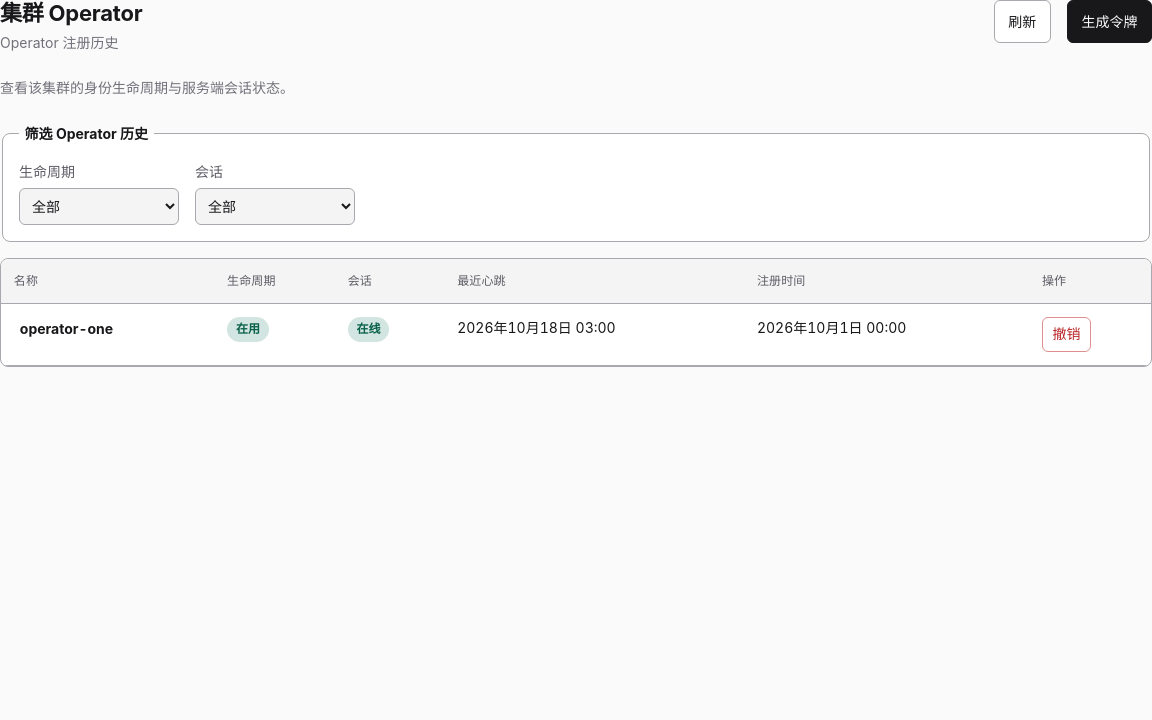
operator revocation feedback (W10) › announces a successful revocation from the list with a polite success toast
The width and height of the screenshot is (1152, 720).
Step 1. Click the button with class "danger" → (1067, 334), box [1042,317,1091,352]
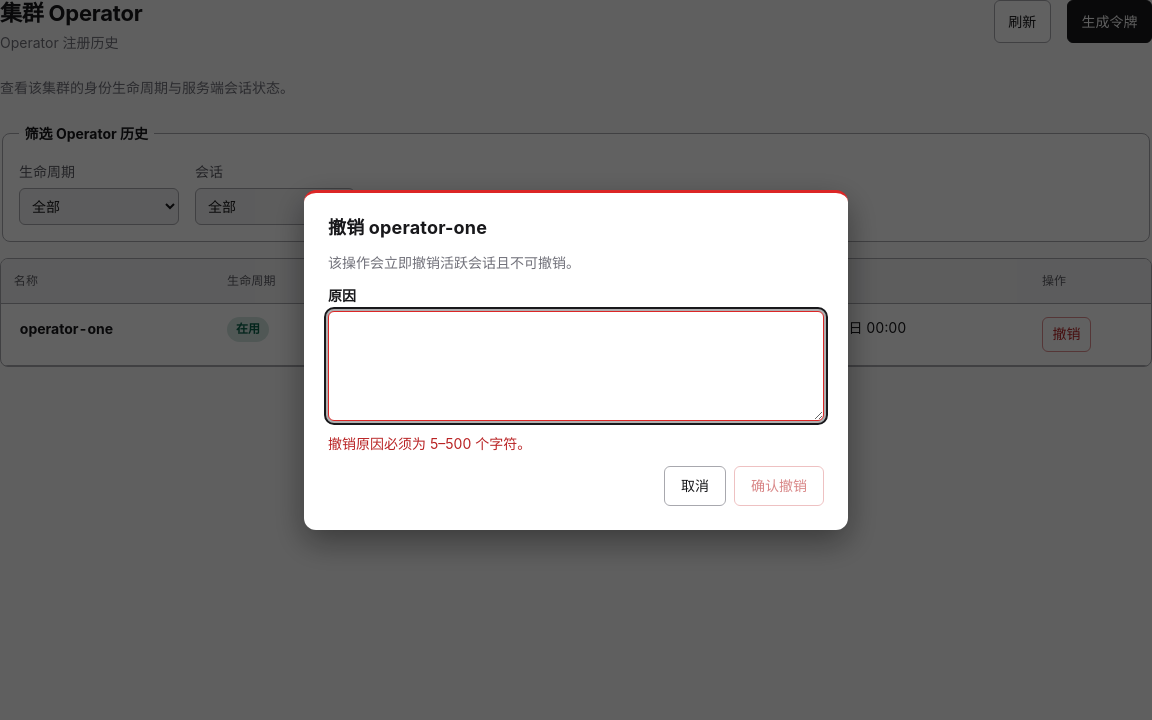
Step 2. Type "compromised credential" into the text box labelled "原因" → (576, 366), box [328,311,824,420]
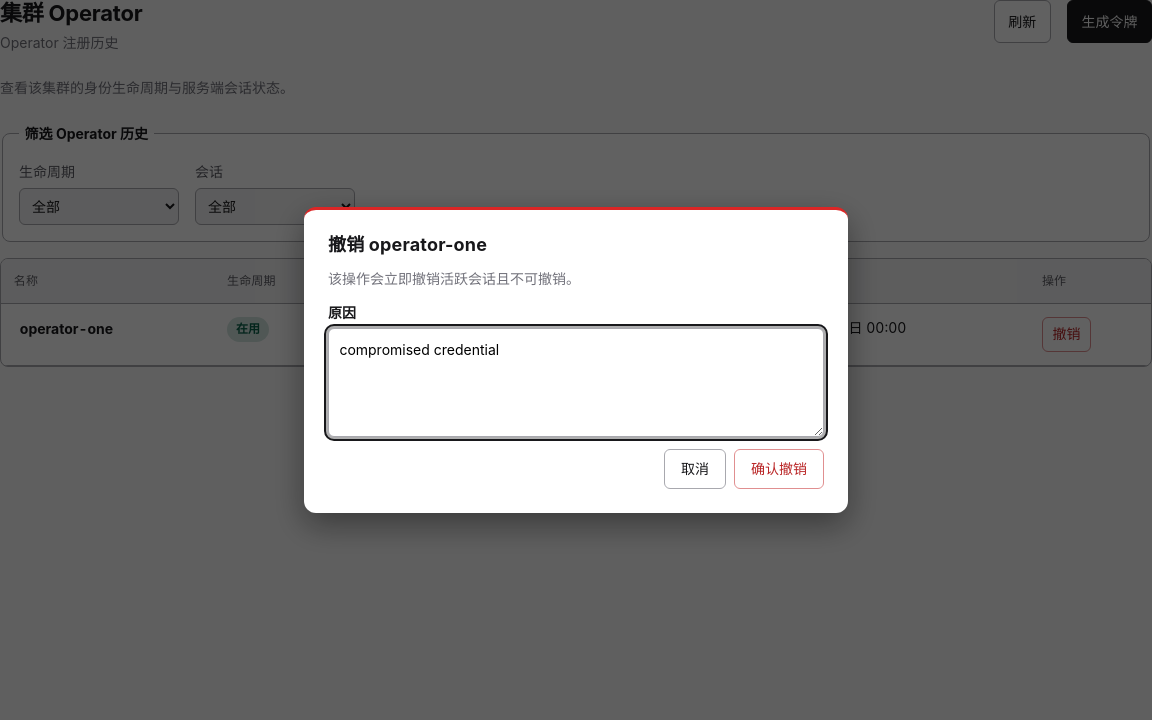
Step 3. Click the button "确认撤销" → (779, 469), box [734,449,824,489]
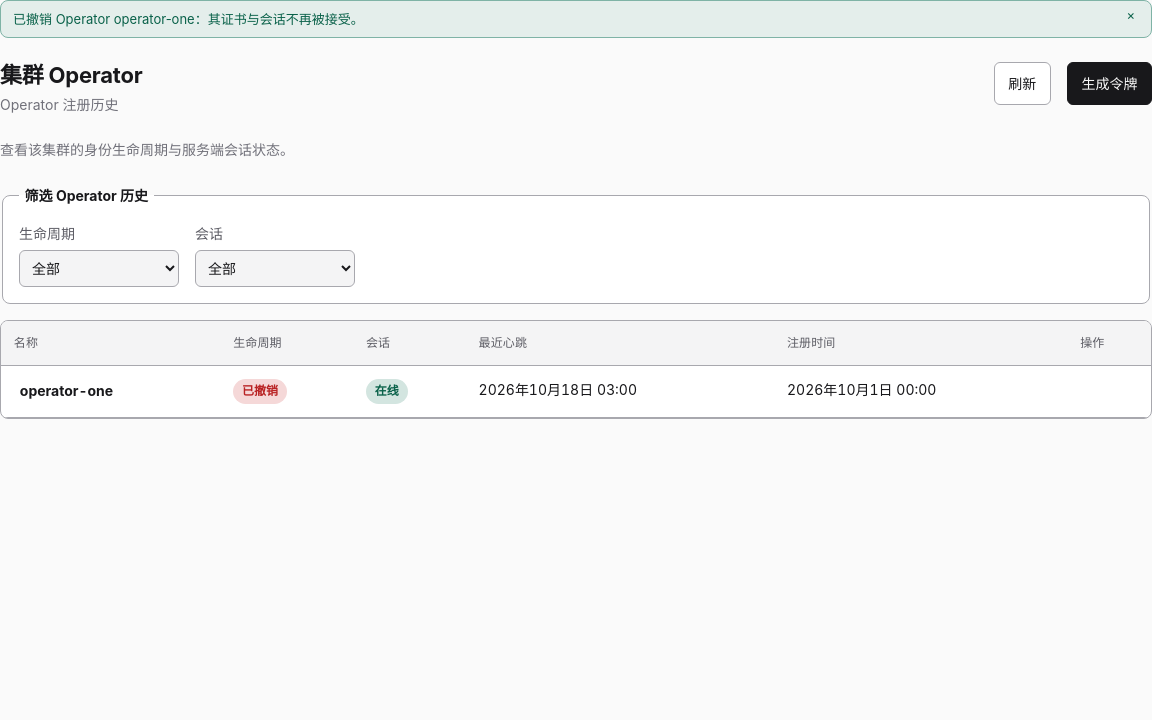
expect the message with test id "operator-list-notice" shows "已撤销 Operator operator-one": met, box [13,11,364,27]
